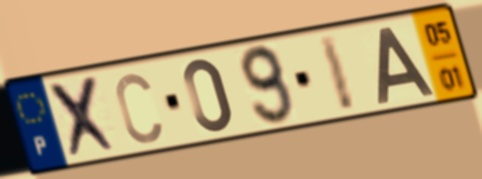0: (181, 56, 235, 135)
9: (236, 41, 299, 129)
A: (375, 24, 438, 106)
C: (112, 70, 165, 147)
I: (315, 31, 360, 116)
X: (44, 71, 124, 162)
